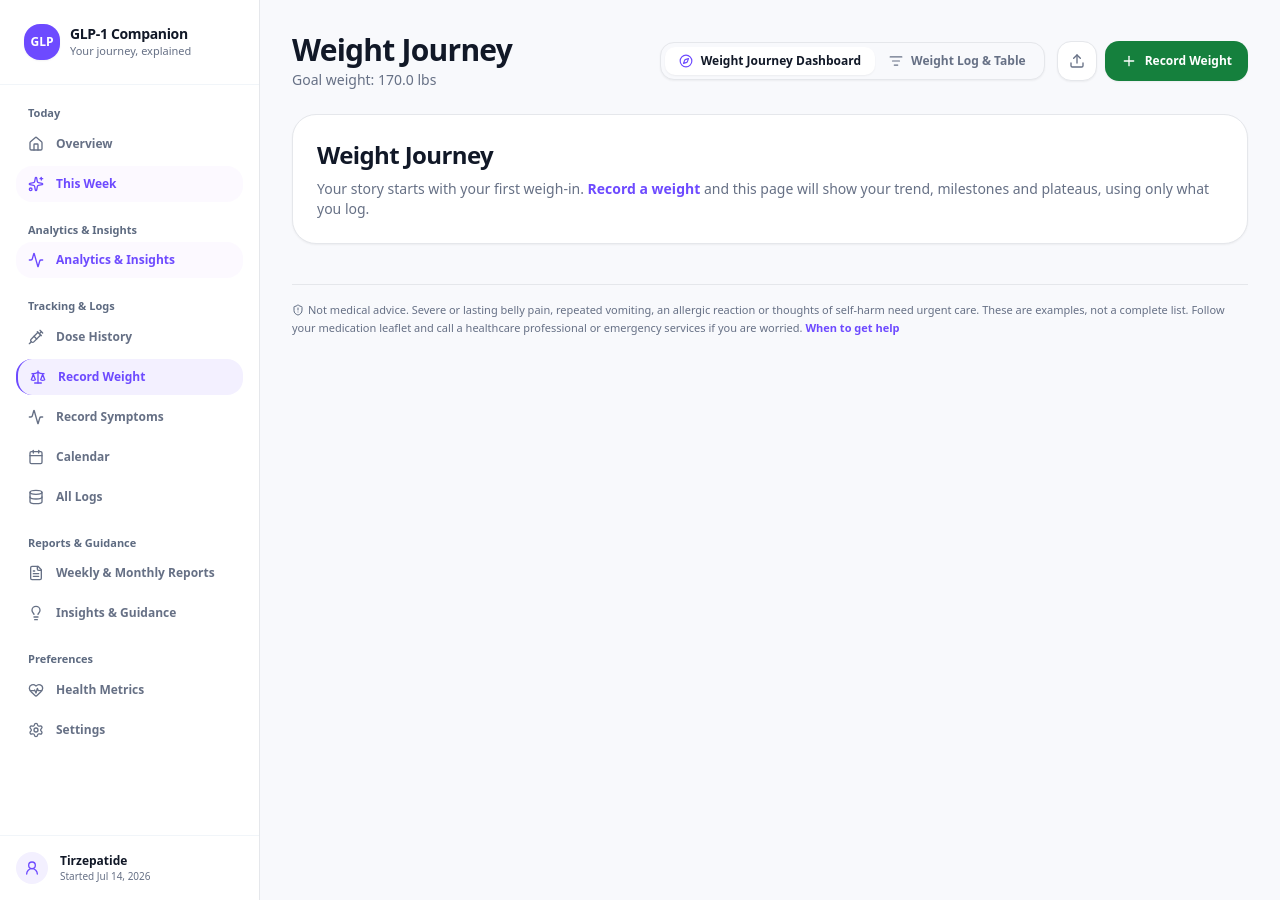
it: log modals keep the chosen calendar day (any timezone) › weight: rejects a future date
The width and height of the screenshot is (1280, 900).
Expected: the element that starts with "Weight Journey" is shown, top-left (292, 29), bottom-right (1248, 337)
Click the button "Record Weight": (1176, 61) top-left (1105, 41), bottom-right (1248, 81)
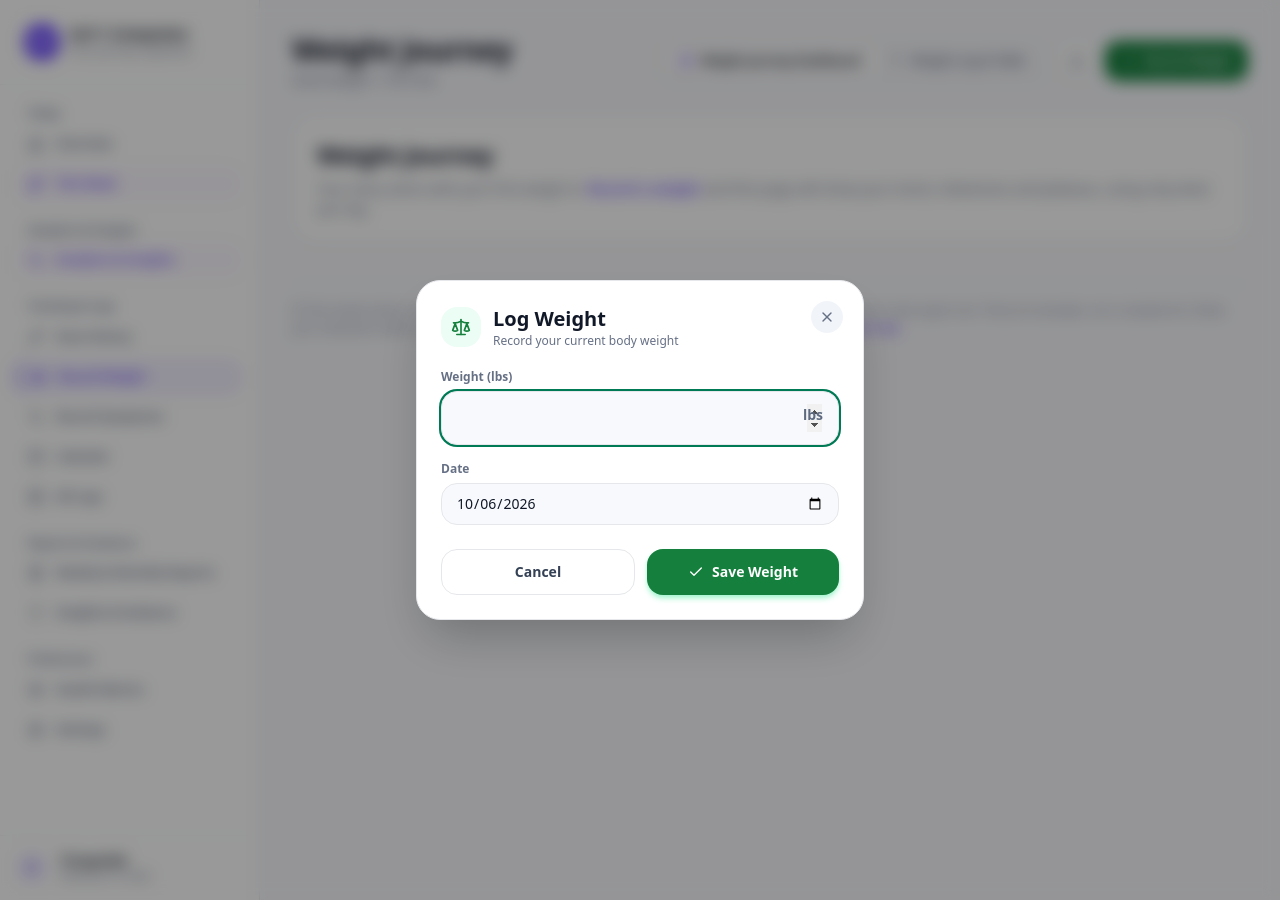
In the date field labelled "Date": (640, 504) top-left (441, 483), bottom-right (839, 525), type "2999-01-01"
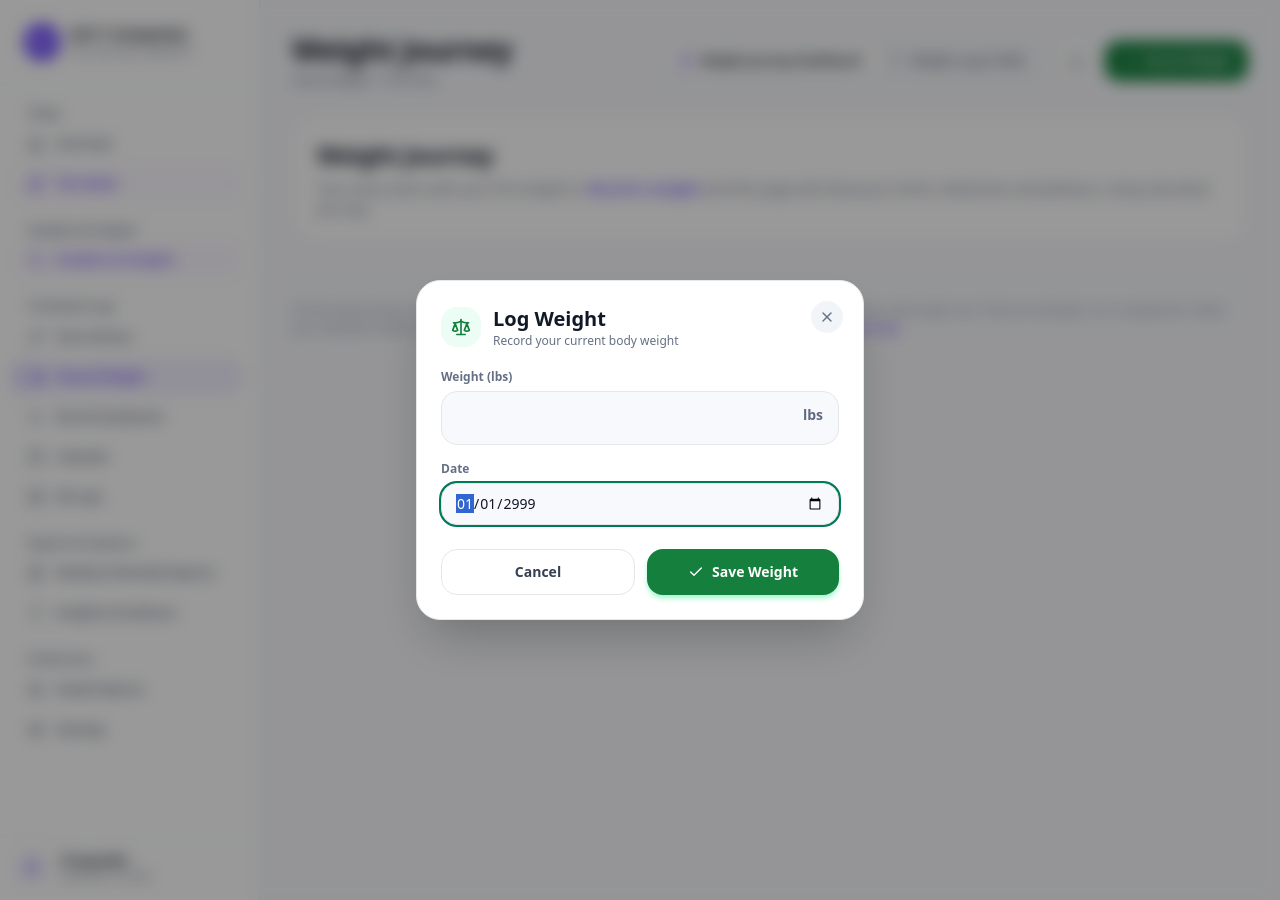
In the number field labelled "Weight (lbs)": (640, 418) top-left (441, 391), bottom-right (839, 445), type "200"
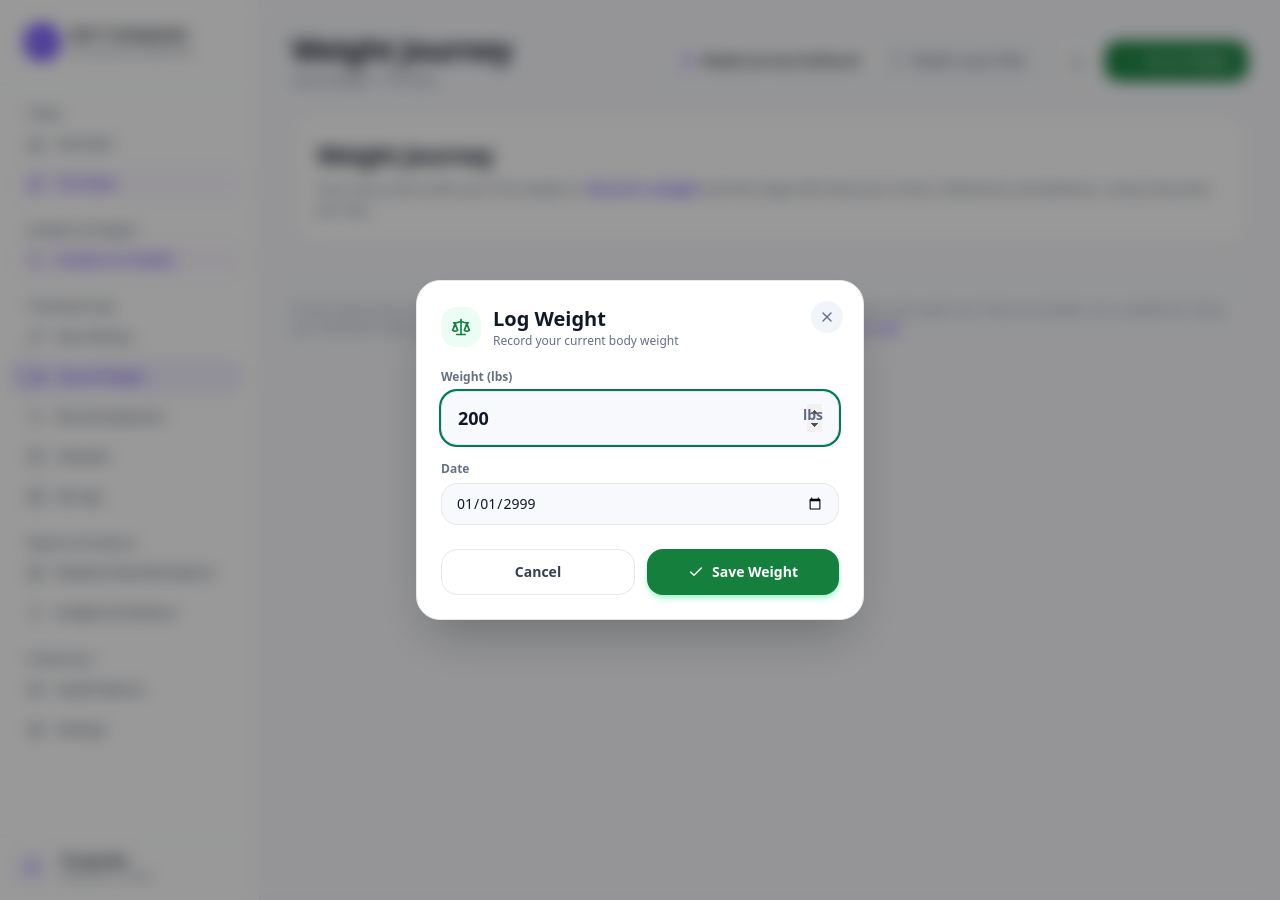
Click the button "Save Weight": (743, 572) top-left (647, 549), bottom-right (839, 595)
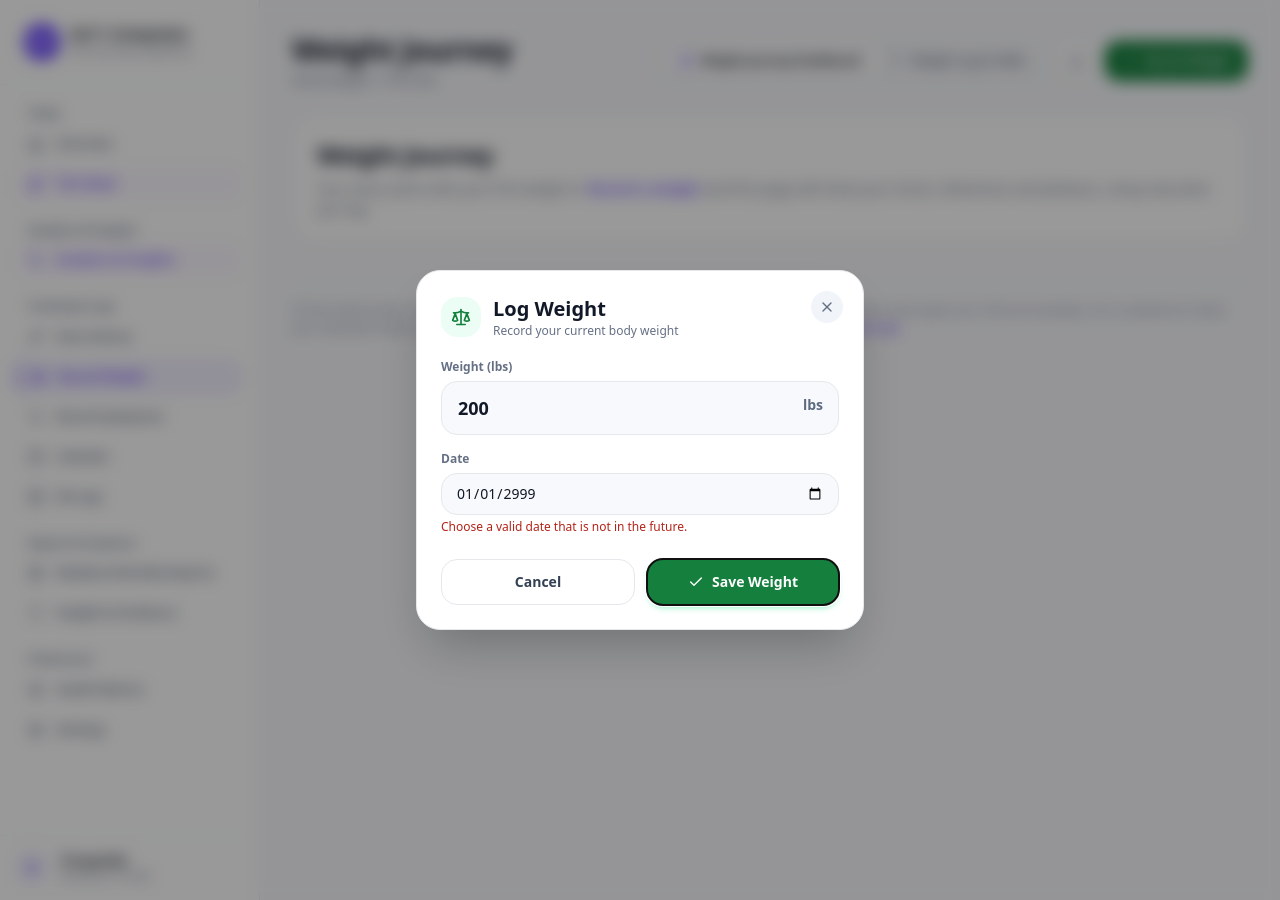
Expected: the message shows "not in the future", top-left (441, 518), bottom-right (687, 535)
